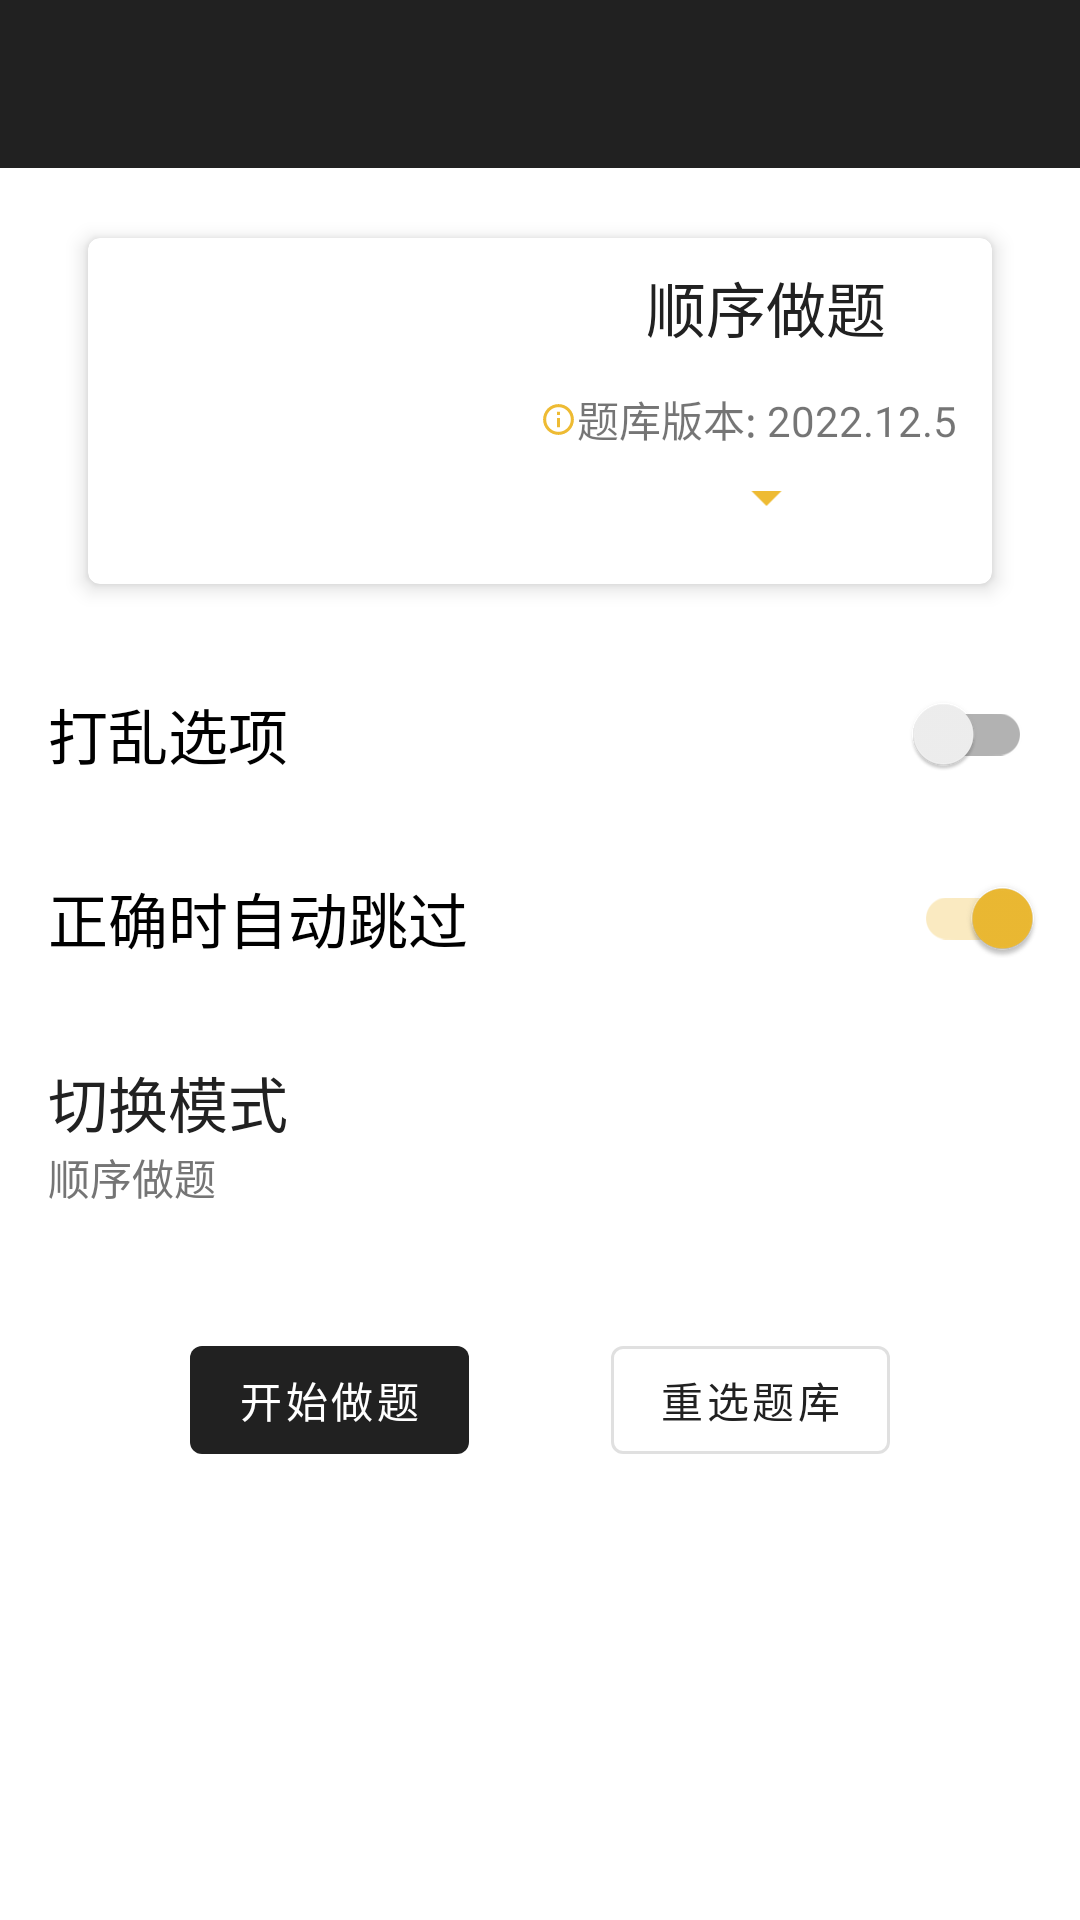

Named icons in this screenshot (1080×1920) and their bounding boxes, (x1, y1, x2, y2):
arrow drop down: (751, 491, 782, 506)
info: (543, 404, 574, 435)
